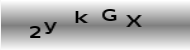2: (29, 25, 43, 39)
G: (101, 7, 118, 22)
X: (125, 14, 143, 28)
k: (74, 10, 88, 25)
y: (43, 19, 58, 36)
